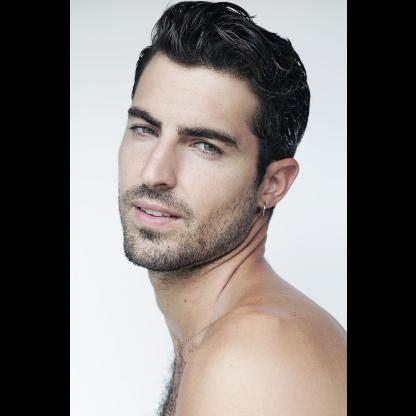Male: (118, 52, 298, 270)
